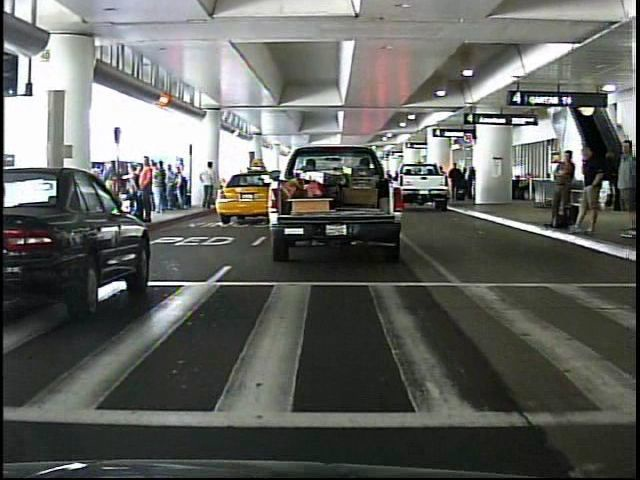person: (542, 144, 578, 238), (573, 141, 607, 239), (605, 137, 636, 242), (136, 154, 157, 222), (200, 160, 220, 214)
